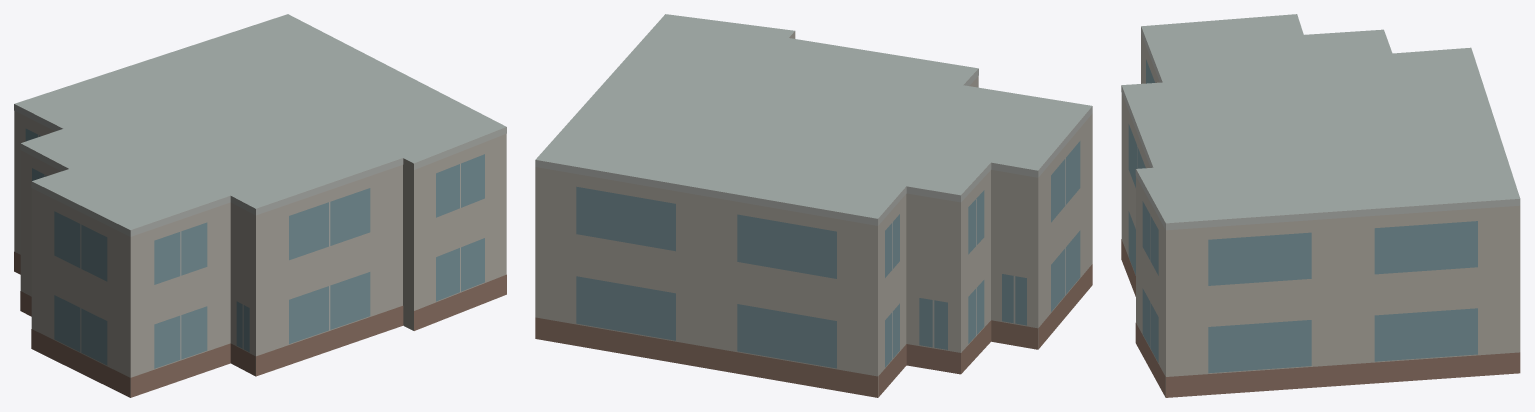
The model's file is survey-upis-32667156.glb.
3 views of the same model, side by side, from view 1: azimuth 30°, elevation 25°; view 2: azimuth 150°, elevation 25°; view 3: azimuth 270°, elevation 25° (orthographic). The views are drawn at different scales.
Parts seen in each view (by area): view 1: survey-upis-32667156.tmp; view 2: survey-upis-32667156.tmp; view 3: survey-upis-32667156.tmp.
Boxes of the visible parts, bbox=[...] form: survey-upis-32667156.tmp: bbox=[14, 14, 506, 397]; survey-upis-32667156.tmp: bbox=[535, 14, 1092, 397]; survey-upis-32667156.tmp: bbox=[1121, 14, 1520, 397].
Size of the model in its own units: 15.71 by 6.1 by 12.65.
